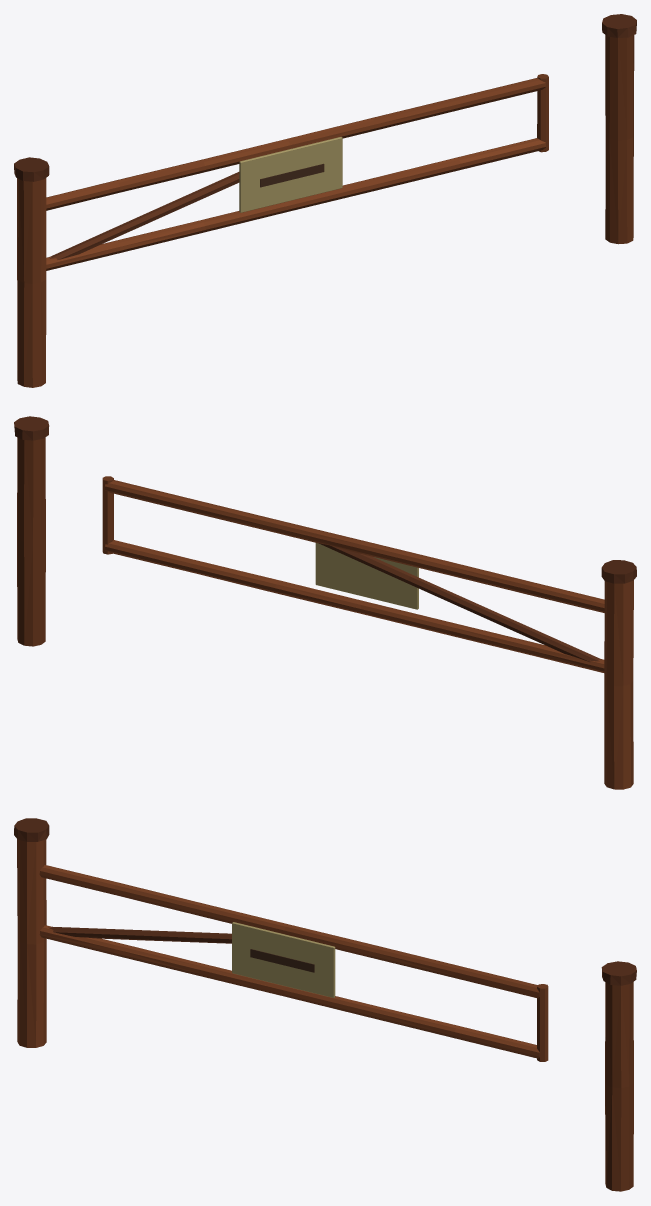
Rendered from fire-gate.glb.
3 renders of one model, top to bottom at view 1: azimuth 30°, elevation 25°; view 2: azimuth 150°, elevation 25°; view 3: azimuth 330°, elevation 25°, orthographic.
Parts seen in each view (by area): view 1: fire-gate-gate, fire-gate; view 2: fire-gate-gate, fire-gate; view 3: fire-gate-gate, fire-gate.
Part boxes in pixels (x1=…): fire-gate-gate: x1=46, y1=74, x2=548, y2=270; fire-gate: x1=14, y1=14, x2=636, y2=387; fire-gate-gate: x1=102, y1=476, x2=604, y2=672; fire-gate: x1=14, y1=416, x2=636, y2=789; fire-gate-gate: x1=39, y1=865, x2=548, y2=1061; fire-gate: x1=14, y1=818, x2=636, y2=1191.
Bounding box in the file's own units: 4.83 × 1.62 × 0.2454.
